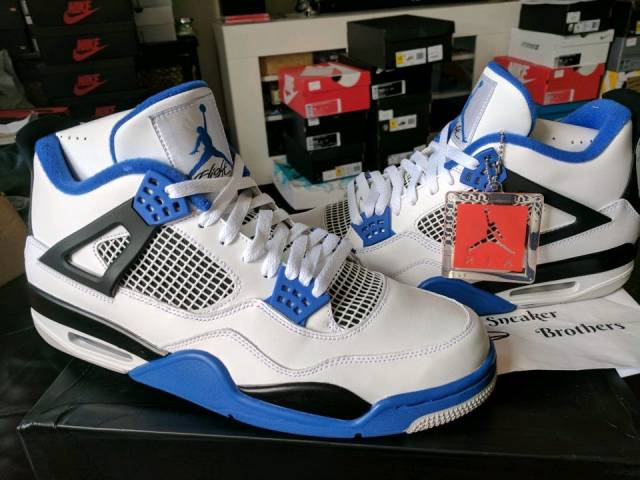Air Jordan 4 Motorsport: (20, 86, 511, 433), (261, 50, 640, 317)
